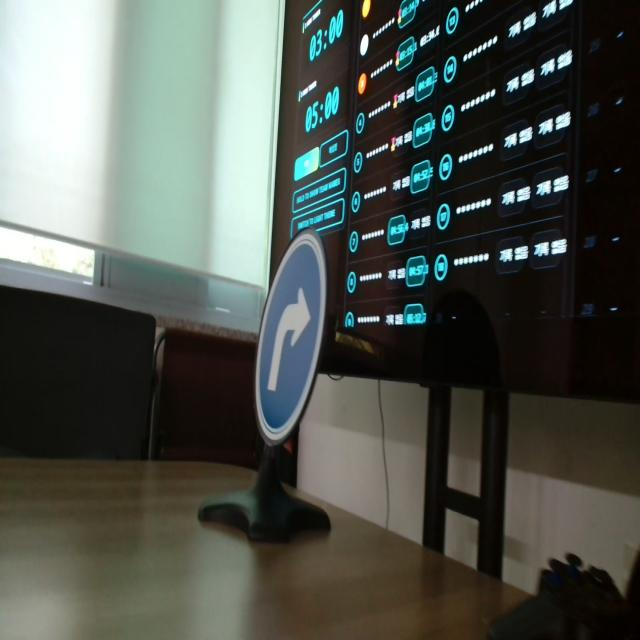right_dierection: (238, 218, 349, 457)
